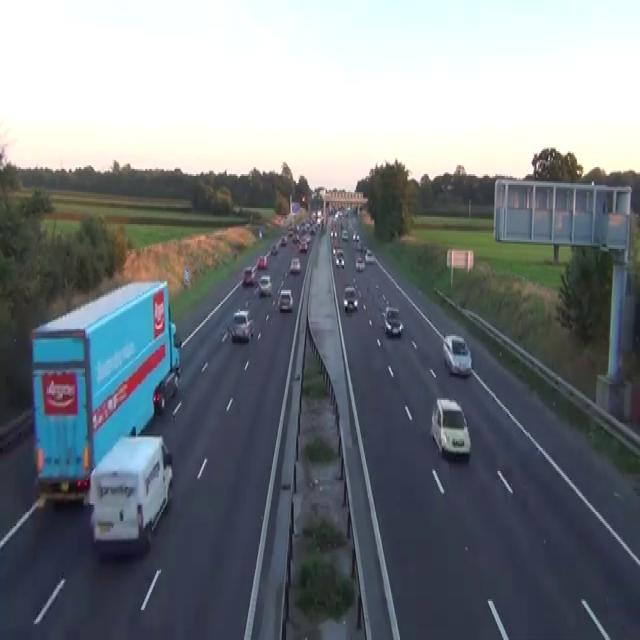Car: (430, 396, 471, 458), (442, 332, 472, 377), (152, 368, 179, 412), (227, 309, 254, 342), (382, 306, 404, 336), (343, 285, 358, 311), (278, 288, 293, 311), (381, 306, 399, 325), (152, 390, 165, 414), (258, 274, 272, 295), (171, 342, 180, 374), (242, 265, 255, 284), (289, 256, 301, 272), (335, 249, 344, 268), (385, 306, 399, 318), (355, 256, 365, 272), (364, 249, 374, 263), (257, 254, 267, 268), (298, 238, 307, 252), (355, 240, 365, 251), (279, 235, 287, 245), (270, 244, 278, 254), (341, 229, 348, 240), (352, 231, 359, 242), (292, 233, 299, 243), (251, 263, 257, 274), (446, 183, 455, 190), (287, 226, 293, 236), (258, 230, 262, 238), (332, 246, 335, 254)
Truck: (30, 279, 180, 507), (87, 434, 173, 554)
